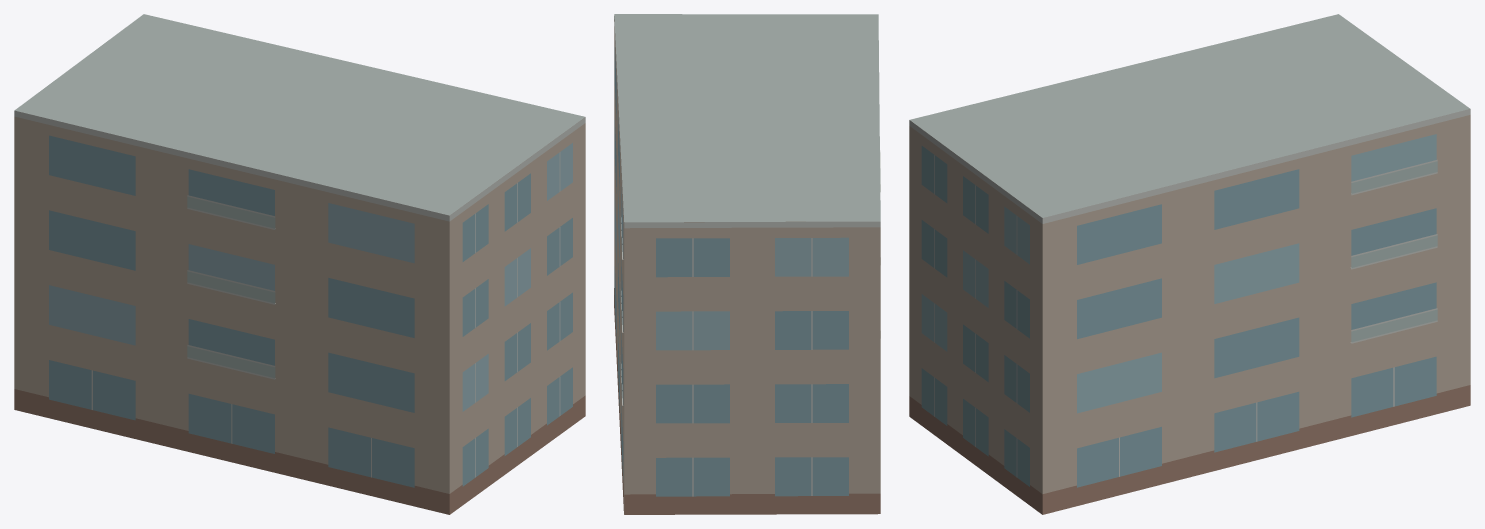
Rendered from survey-upis-32623827.glb.
3 views of the same model, side by side, from view 1: azimuth 30°, elevation 25°; view 2: azimuth 150°, elevation 25°; view 3: azimuth 270°, elevation 25° (orthographic). The views are drawn at different scales.
Parts seen in each view (by area): view 1: survey-upis-32623827.tmp; view 2: survey-upis-32623827.tmp; view 3: survey-upis-32623827.tmp.
Boxes of the visible parts, x1,y1,x2,y2 form: survey-upis-32623827.tmp: (14,14,585,514); survey-upis-32623827.tmp: (614,14,880,514); survey-upis-32623827.tmp: (909,14,1470,514).
Bounding box in the file's own units: 18.01 × 12.2 × 20.92.
